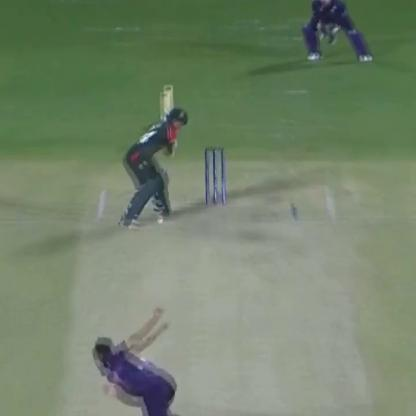ball: (150, 215, 167, 228)
bat: (152, 83, 181, 141)
pitch: (60, 182, 370, 416)
